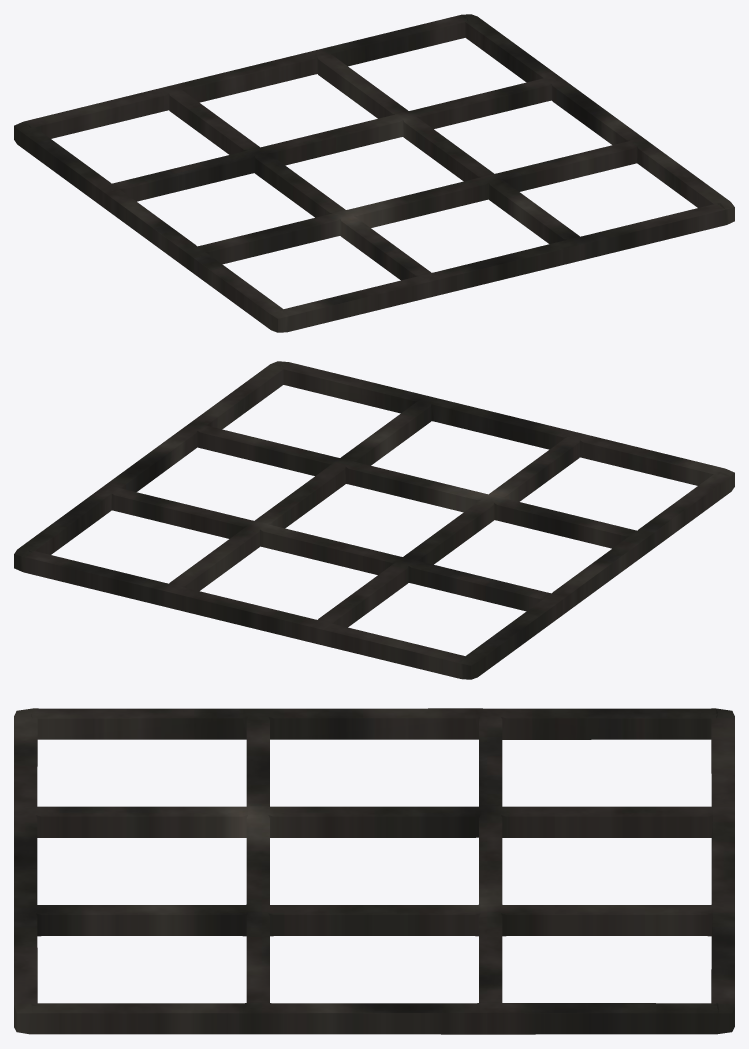
3 views of the same model, one above another, from view 1: azimuth 30°, elevation 25°; view 2: azimuth 150°, elevation 25°; view 3: azimuth 270°, elevation 25° (orthographic). The views are drawn at different scales.
Parts seen in each view (by area): view 1: Grid; view 2: Grid; view 3: Grid.
Boxes of the visible parts, x1,y1,x2,y2 form: Grid: (14, 14, 734, 332); Grid: (14, 361, 734, 679); Grid: (14, 708, 734, 1034).
Size of the model in its own units: 10.37 by 0.4149 by 10.37.
1 material, 1 textured.
